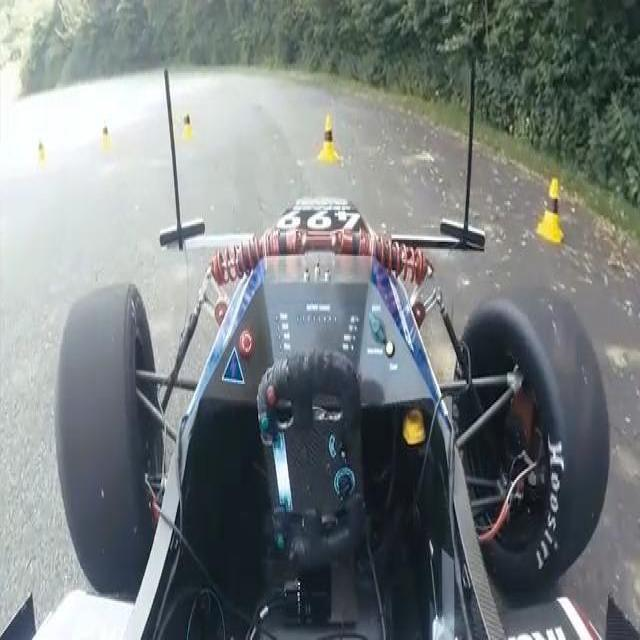yellow_cone: (535, 172, 563, 245), (319, 112, 344, 164), (181, 108, 194, 146), (99, 124, 112, 156), (36, 140, 45, 168)
